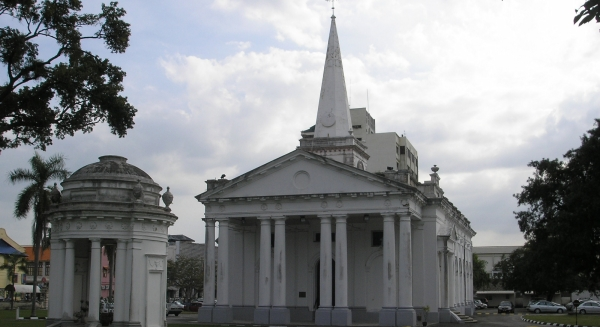Church: (49, 4, 466, 319)
